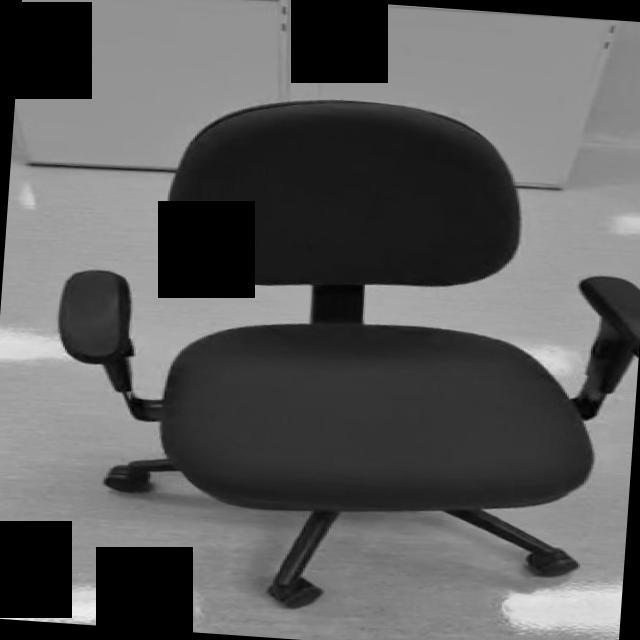chair: (36, 81, 640, 630)
